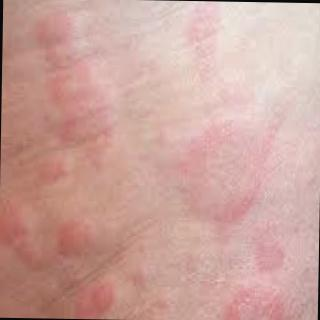urticaria: (24, 20, 320, 311)
